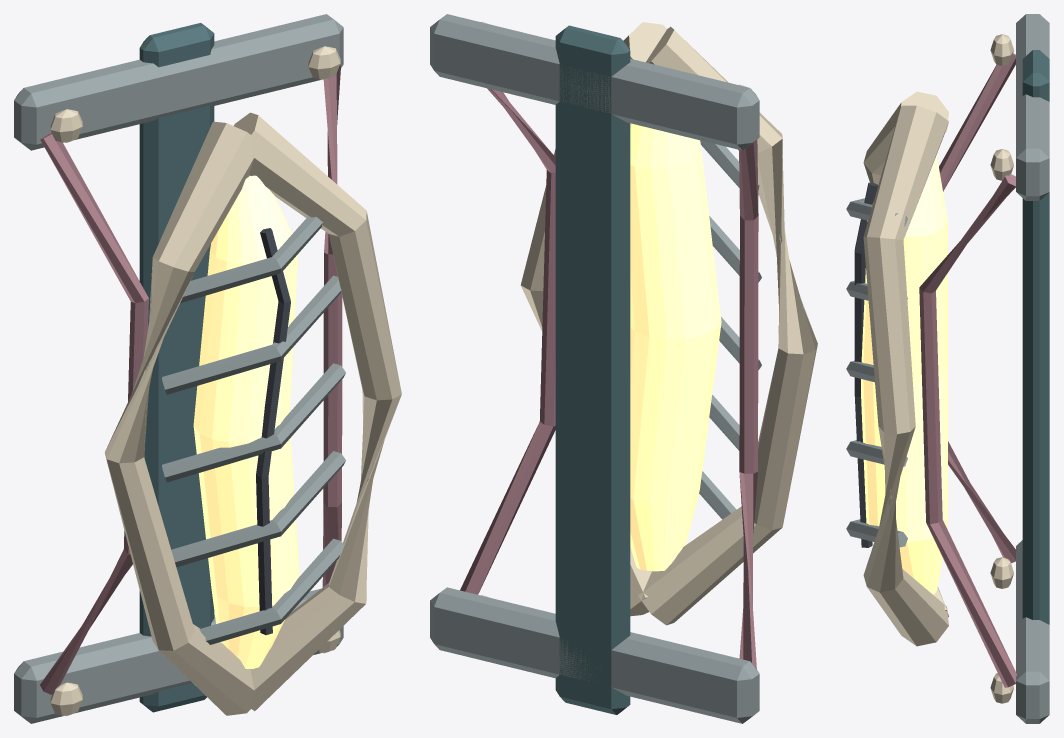
The model's file is lumen_sconce.glb.
3 views of the same model, side by side, from view 1: azimuth 30°, elevation 25°; view 2: azimuth 150°, elevation 25°; view 3: azimuth 270°, elevation 25° (orthographic). The views are drawn at different scales.
Visible parts, largest first — view 1: lumen_sconce_warm, lumen_sconce_worn, lumen_sconce_sick, lumen_sconce_petrol, lumen_sconce_bruised, lumen_sconce_deep; view 2: lumen_sconce_petrol, lumen_sconce_worn, lumen_sconce_sick, lumen_sconce_warm, lumen_sconce_bruised; view 3: lumen_sconce_warm, lumen_sconce_sick, lumen_sconce_petrol, lumen_sconce_bruised, lumen_sconce_worn, lumen_sconce_deep.
Part boxes in pixels (x1=…): lumen_sconce_warm: x1=50, y1=46, x2=401, y2=716; lumen_sconce_worn: x1=14, y1=14, x2=345, y2=723; lumen_sconce_sick: x1=193, y1=175, x2=299, y2=668; lumen_sconce_petrol: x1=139, y1=23, x2=214, y2=712; lumen_sconce_bruised: x1=40, y1=65, x2=342, y2=694; lumen_sconce_deep: x1=256, y1=228, x2=290, y2=635; lumen_sconce_petrol: x1=555, y1=25, x2=630, y2=714; lumen_sconce_worn: x1=430, y1=14, x2=761, y2=723; lumen_sconce_sick: x1=630, y1=123, x2=721, y2=571; lumen_sconce_warm: x1=481, y1=21, x2=817, y2=658; lumen_sconce_bruised: x1=460, y1=88, x2=758, y2=668; lumen_sconce_warm: x1=863, y1=34, x2=1013, y2=703; lumen_sconce_sick: x1=861, y1=155, x2=947, y2=594; lumen_sconce_petrol: x1=1022, y1=50, x2=1049, y2=624; lumen_sconce_bruised: x1=919, y1=53, x2=1016, y2=687; lumen_sconce_worn: x1=846, y1=14, x2=1049, y2=723; lumen_sconce_deep: x1=854, y1=182, x2=878, y2=547.
Size of the model in its own units: 1 by 2 by 0.6.
